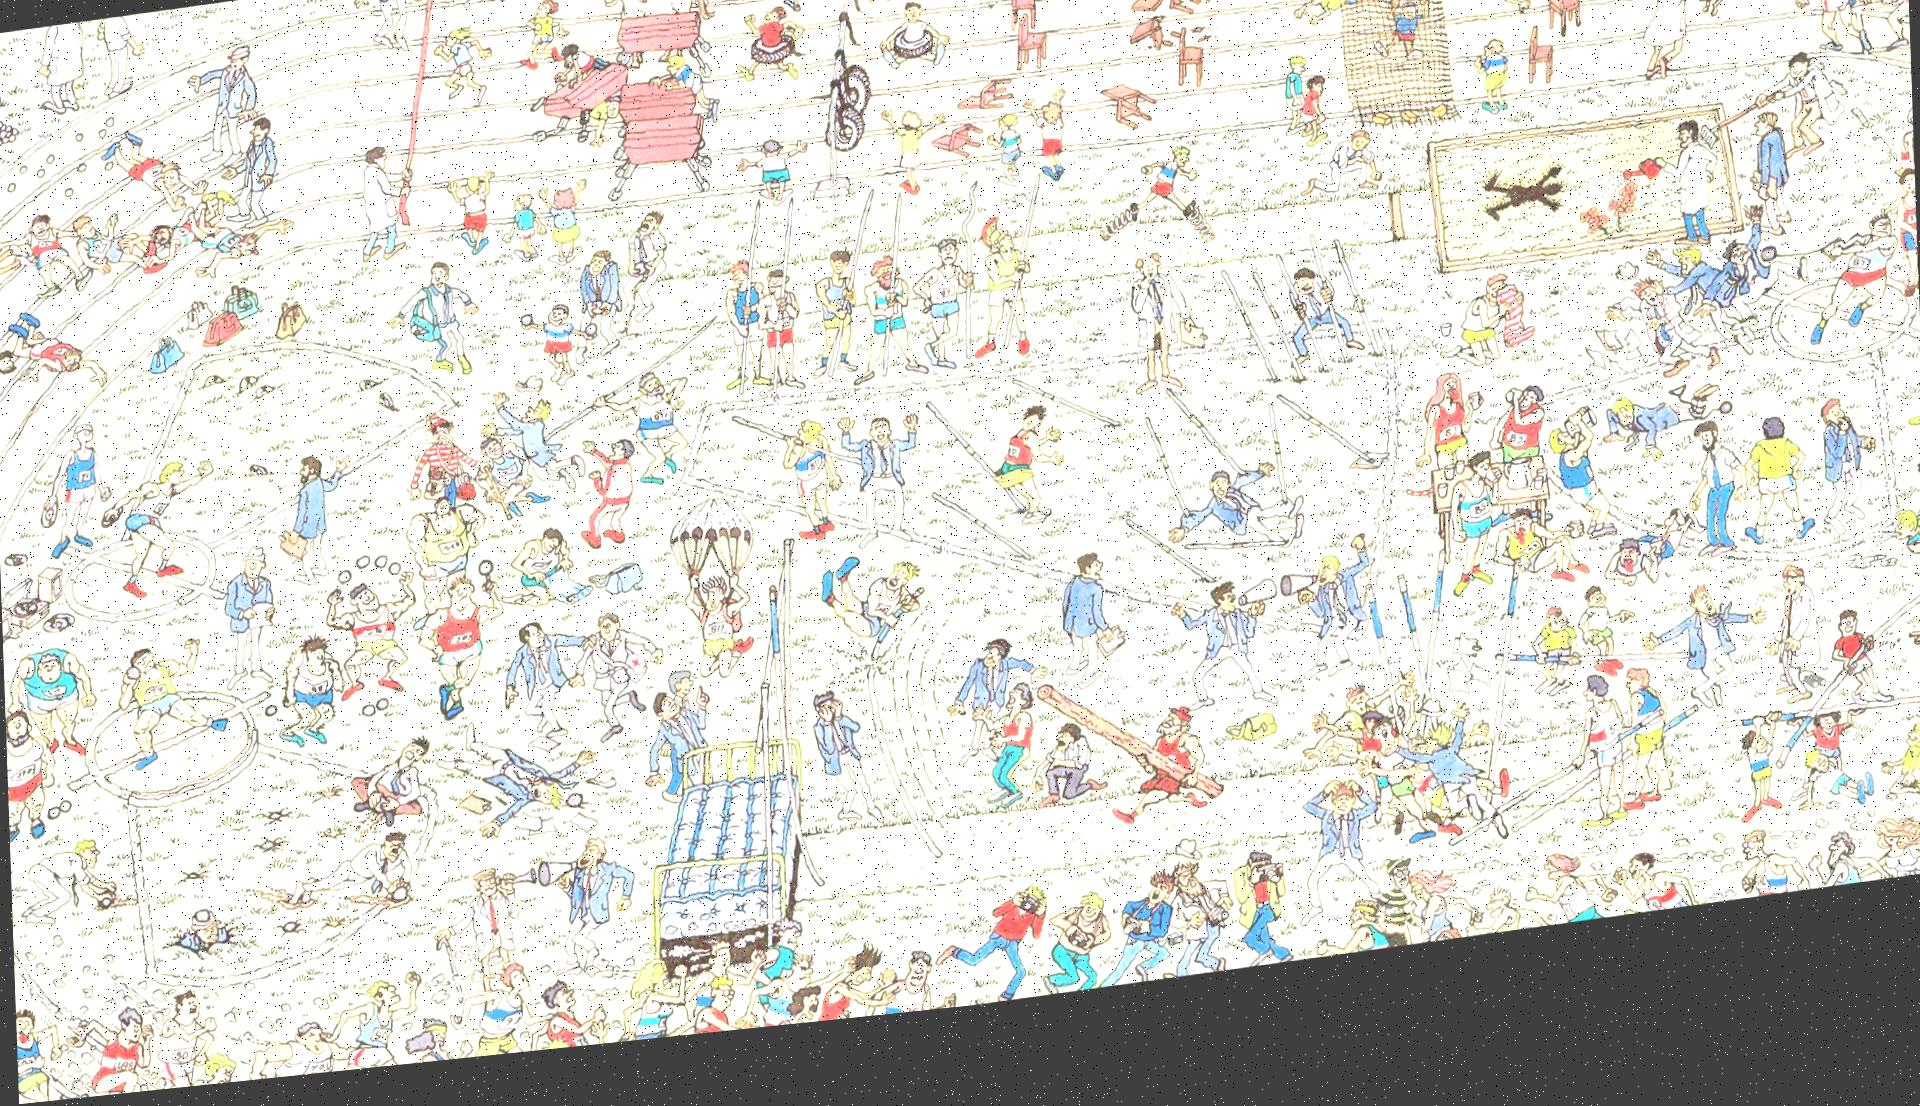waldo: (422, 422, 454, 459)
